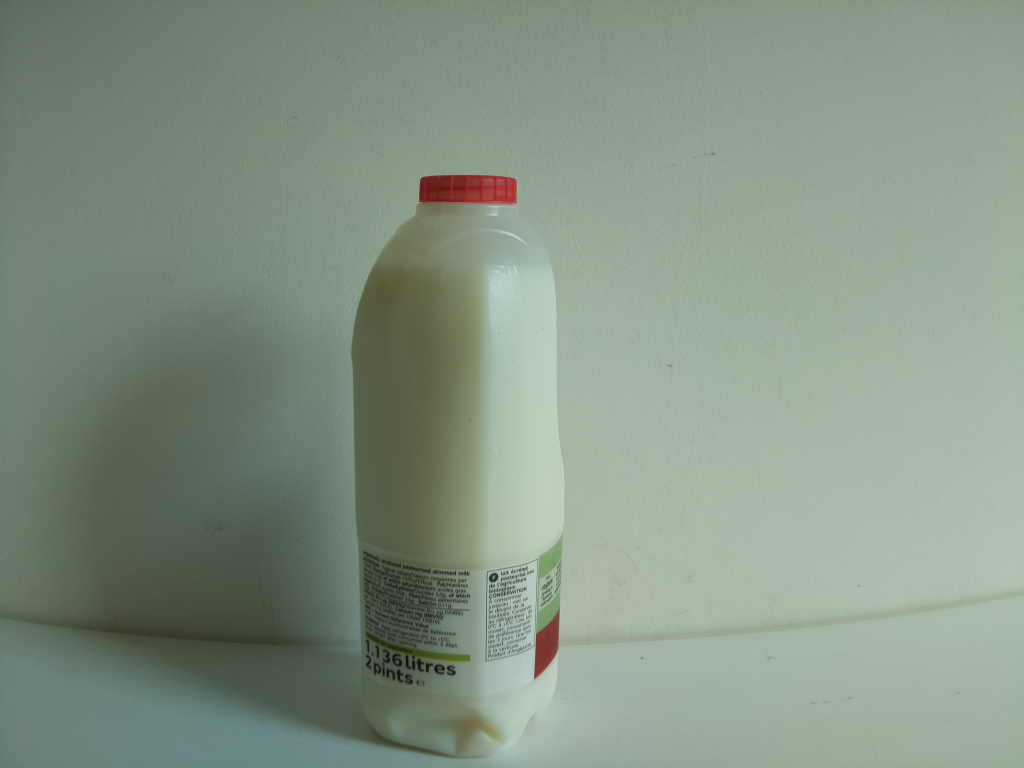milk: (349, 170, 568, 761)
